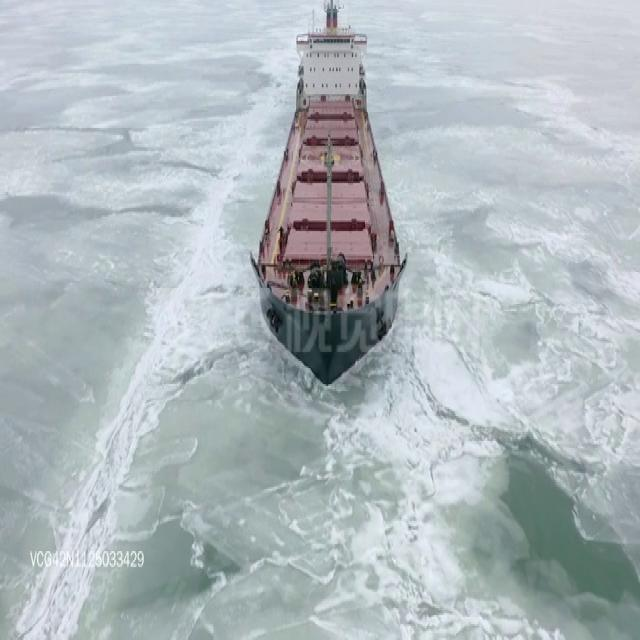cargoship: (253, 0, 407, 376)
